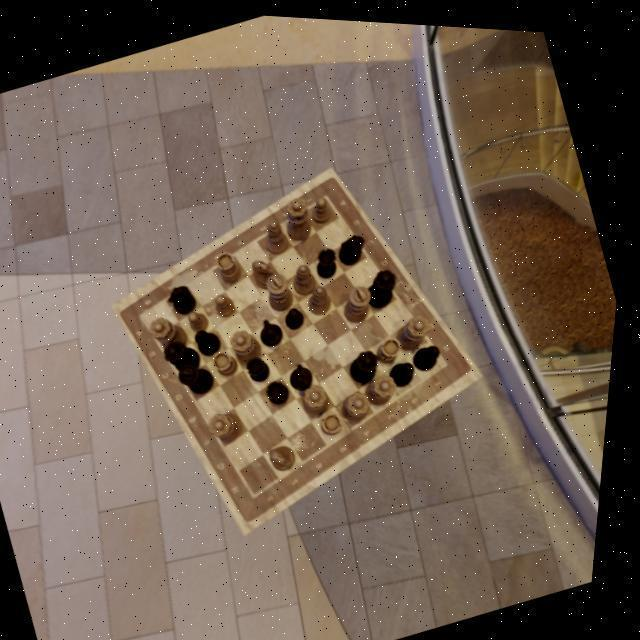chess-table-corners: (312, 178, 348, 210), (248, 471, 278, 508), (132, 296, 160, 326), (438, 346, 464, 372)
